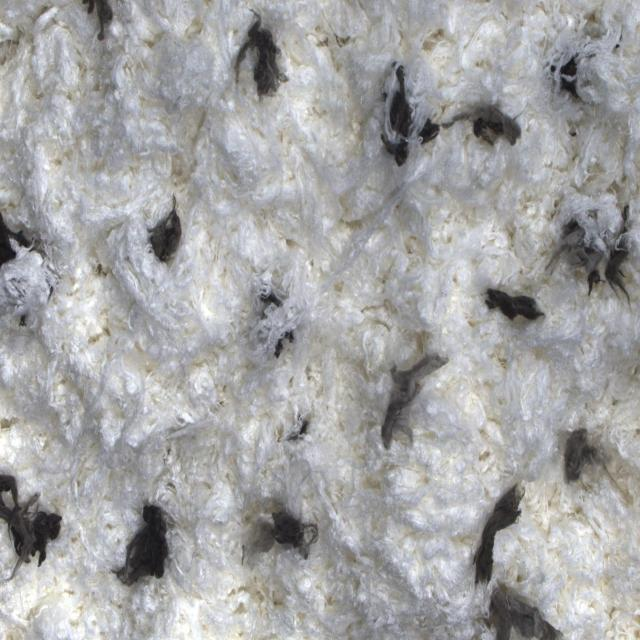dust: (544, 192, 640, 302), (229, 496, 322, 604), (548, 19, 640, 115), (377, 349, 454, 457), (110, 484, 184, 595), (0, 470, 67, 584), (0, 202, 59, 331), (466, 472, 527, 591), (561, 412, 634, 511), (419, 90, 524, 158), (233, 2, 295, 111), (478, 573, 570, 640), (375, 54, 420, 173), (481, 268, 548, 339), (252, 281, 300, 357), (145, 195, 187, 273), (278, 393, 316, 467), (73, 0, 117, 49)
